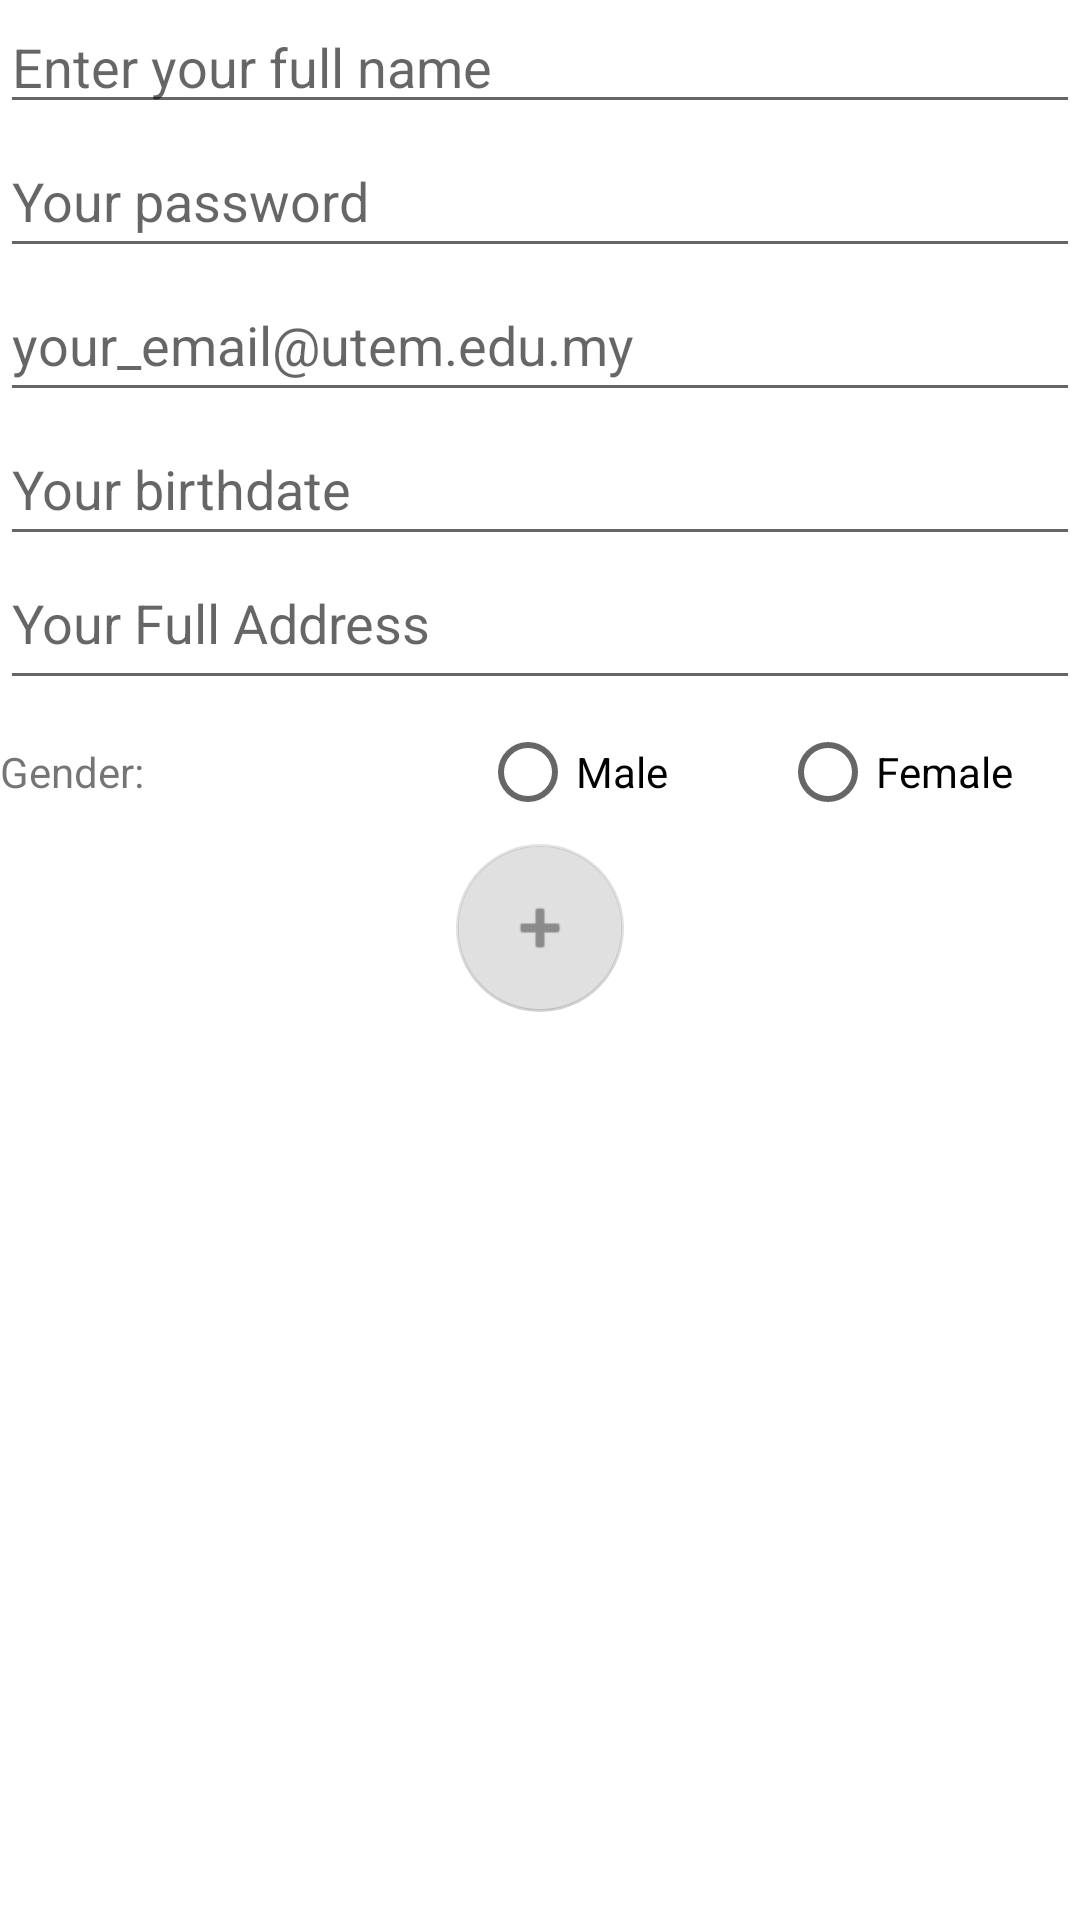

Icon bounding boxes for this 1080w x 1920h phone screenshot, format [left=x1, top=y1, right=x2, bottom=y2]:
add: [left=456, top=844, right=624, bottom=1012]
